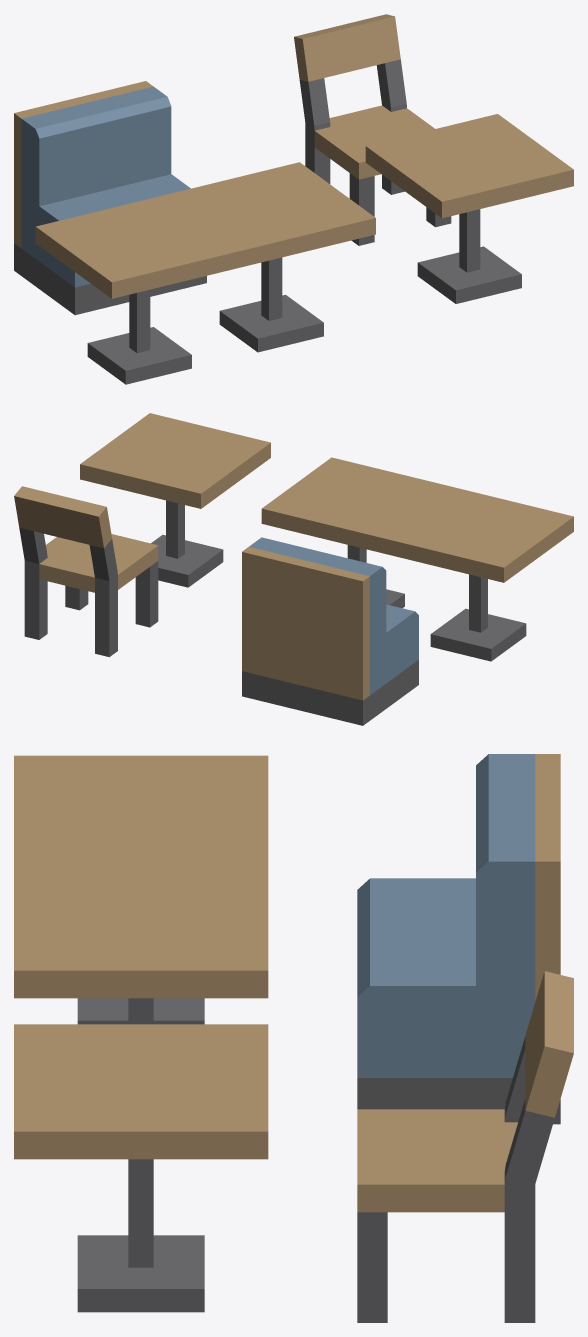
File: Seating04.fbx
The picture shows the model from 3 angles, top to bottom: view 1: azimuth 30°, elevation 25°; view 2: azimuth 150°, elevation 25°; view 3: azimuth 270°, elevation 25°; orthographic projection. The views are drawn at different scales.
Parts seen in each view (by area): view 1: Table_Long, Sofa, Table, Chair; view 2: Sofa, Table_Long, Chair, Table; view 3: Table_Long, Sofa, Table, Chair.
Part boxes in pixels (x1=…): Table_Long: x1=35, y1=162, x2=375, y2=384; Sofa: x1=14, y1=81, x2=206, y2=315; Table: x1=365, y1=114, x2=573, y2=303; Chair: x1=294, y1=14, x2=451, y2=245; Sofa: x1=242, y1=537, x2=418, y2=725; Table_Long: x1=261, y1=457, x2=573, y2=661; Chair: x1=14, y1=486, x2=158, y2=657; Table: x1=80, y1=413, x2=270, y2=587; Table_Long: x1=14, y1=755, x2=268, y2=1024; Sofa: x1=357, y1=754, x2=560, y2=1124; Table: x1=14, y1=1024, x2=268, y2=1312; Chair: x1=357, y1=971, x2=573, y2=1322.
Bounding box in the file's own units: 3.5 × 1.2 × 2.2.
1 material, 1 textured.
